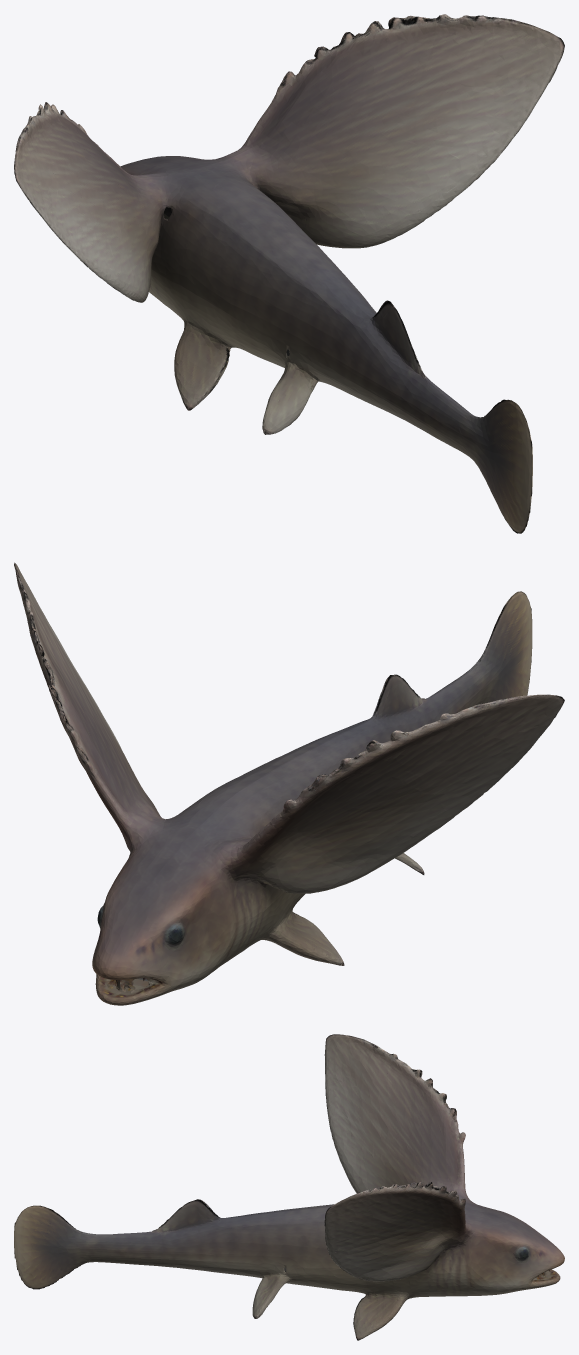
3 renders of one model, top to bottom at view 1: azimuth 30°, elevation 25°; view 2: azimuth 150°, elevation 25°; view 3: azimuth 270°, elevation 25°, orthographic. The views are drawn at different scales.
Parts seen in each view (by area): view 1: world; view 2: world; view 3: world.
Boxes of the visible parts, <box> form: world: <box>14,14,564,533</box>; world: <box>14,562,564,1005</box>; world: <box>14,1034,564,1340</box>.
Size of the model in its own units: 0.7314 by 0.3962 by 0.9842.
Materials: 1 (1 with a texture image).
